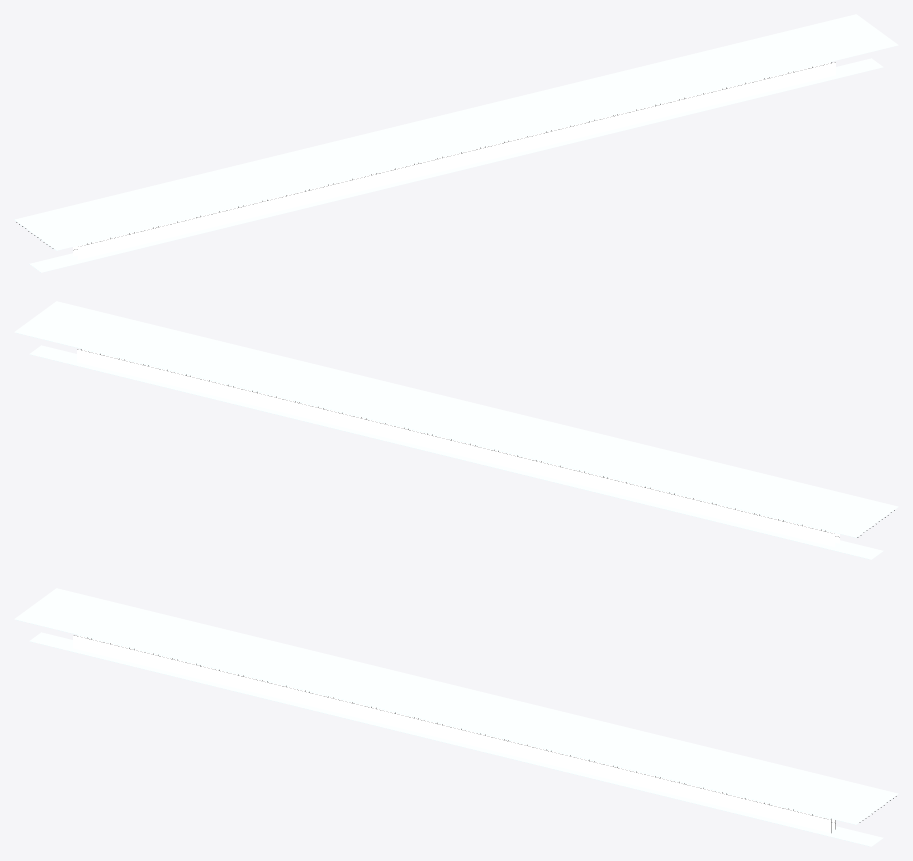
Rendered from Isolated_aisle_environment.dae.
3 renders of one model, top to bottom at view 1: azimuth 30°, elevation 25°; view 2: azimuth 150°, elevation 25°; view 3: azimuth 330°, elevation 25°, orthographic.
Parts seen in each view (by area): view 1: ceiling, floor, wall_right.004, wall_right.006, wall_right.001, wall_right.007, wall_right.005, wall_right.003, wall_right.009, wall_right.002; view 2: ceiling, floor, wall_left.004, wall_left.006, wall_left.001, wall_left.007, wall_left.005, wall_left.003, wall_left.009, wall_left.002; view 3: ceiling, floor, wall_right.001, wall_right.007, wall_right.002, wall_right.006, wall_right.009, wall_right.005, wall_right.003, wall_right.004.
Part boxes in pixels (x1,y1,x2,y2): ceiling: (14, 14, 898, 250); floor: (29, 58, 883, 272); wall_right.004: (77, 224, 172, 260); wall_right.006: (551, 108, 646, 144); wall_right.001: (172, 201, 267, 236); wall_right.007: (646, 85, 741, 121); wall_right.005: (457, 131, 551, 167); wall_right.003: (362, 154, 456, 190); wall_right.009: (741, 62, 835, 98); wall_right.002: (267, 178, 361, 213); ceiling: (14, 301, 898, 537); floor: (29, 345, 883, 559); wall_left.004: (740, 511, 835, 547); wall_left.006: (266, 395, 361, 431); wall_left.001: (645, 488, 740, 523); wall_left.007: (171, 372, 266, 408); wall_left.005: (361, 418, 455, 454); wall_left.003: (456, 441, 550, 477); wall_left.009: (77, 349, 171, 385); wall_left.002: (551, 465, 645, 500); ceiling: (14, 588, 898, 824); floor: (29, 632, 883, 846); wall_right.001: (167, 658, 262, 694); wall_right.007: (641, 774, 736, 809); wall_right.002: (262, 681, 357, 717); wall_right.006: (546, 751, 641, 786); wall_right.009: (736, 797, 830, 833); wall_right.005: (452, 727, 546, 763); wall_right.003: (357, 704, 451, 740); wall_right.004: (73, 635, 167, 671).
Size of the model in its own units: 400 by 35 by 15.04.
